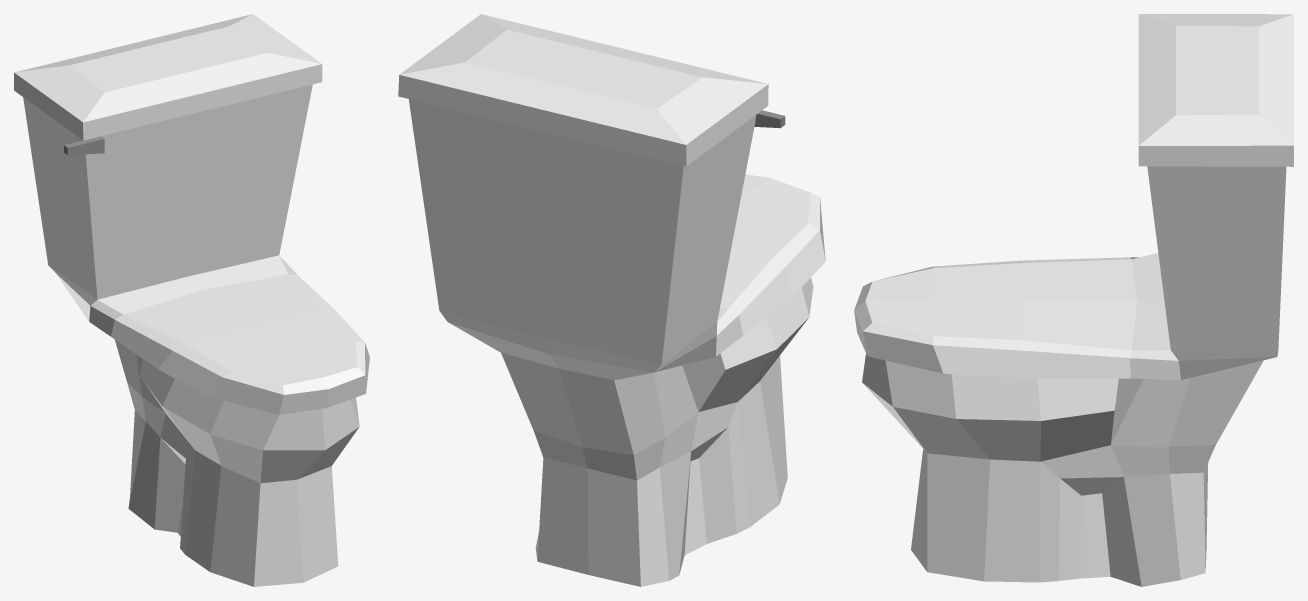
File: Toilet_2.fbx
3 renders of one model, left to right at view 1: azimuth 30°, elevation 25°; view 2: azimuth 150°, elevation 25°; view 3: azimuth 270°, elevation 25°, orthographic. The views are drawn at different scales.
Parts seen in each view (by area): view 1: Toilet_2; view 2: Toilet_2; view 3: Toilet_2.
Boxes of the visible parts, <box> form: Toilet_2: <box>14,14,369,586</box>; Toilet_2: <box>398,14,825,586</box>; Toilet_2: <box>854,14,1293,586</box>.
Bounding box in the file's own units: 77.1 × 102 × 126.
